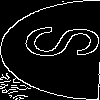S: (25, 25, 100, 59)
